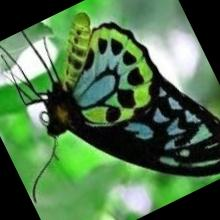butterfly: (43, 14, 220, 176)
